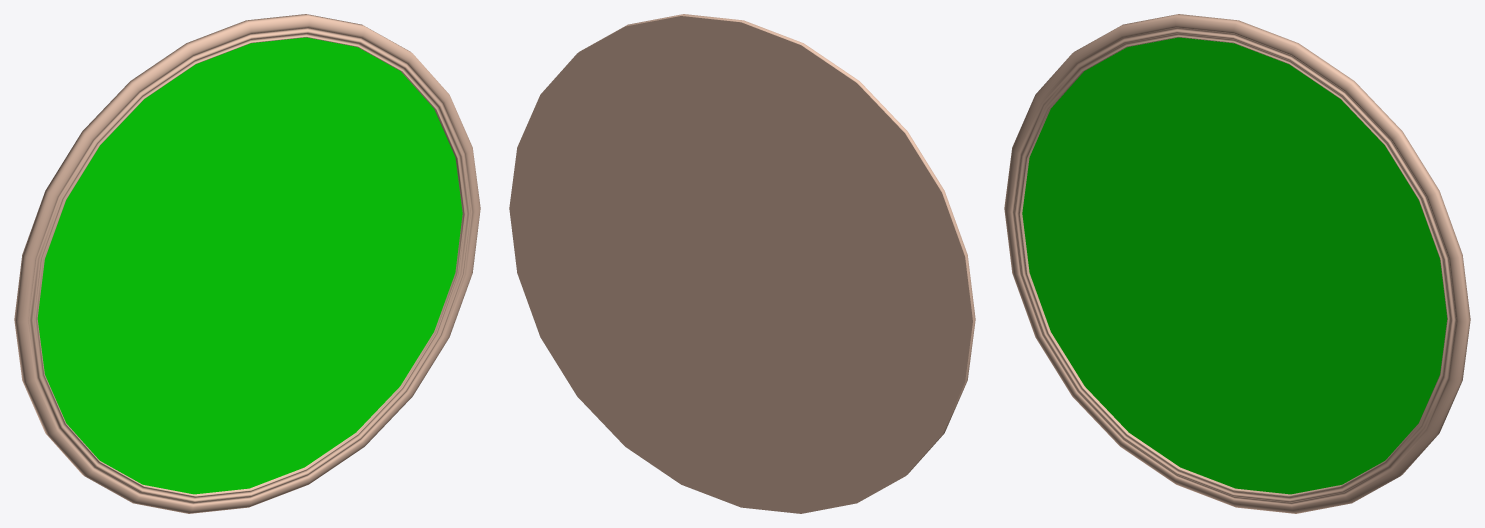
The model's file is clock_wood.dae.
3 views of the same model, side by side, from view 1: azimuth 30°, elevation 25°; view 2: azimuth 150°, elevation 25°; view 3: azimuth 330°, elevation 25° (orthographic).
Parts seen in each view (by area): view 1: clock_wood; view 2: clock_wood; view 3: clock_wood.
Boxes of the visible parts, <box> form: clock_wood: <box>14,14,480,513</box>; clock_wood: <box>509,14,975,513</box>; clock_wood: <box>1004,14,1470,513</box>.
Bounding box in the file's own units: 0.5 × 0.01 × 0.5.
